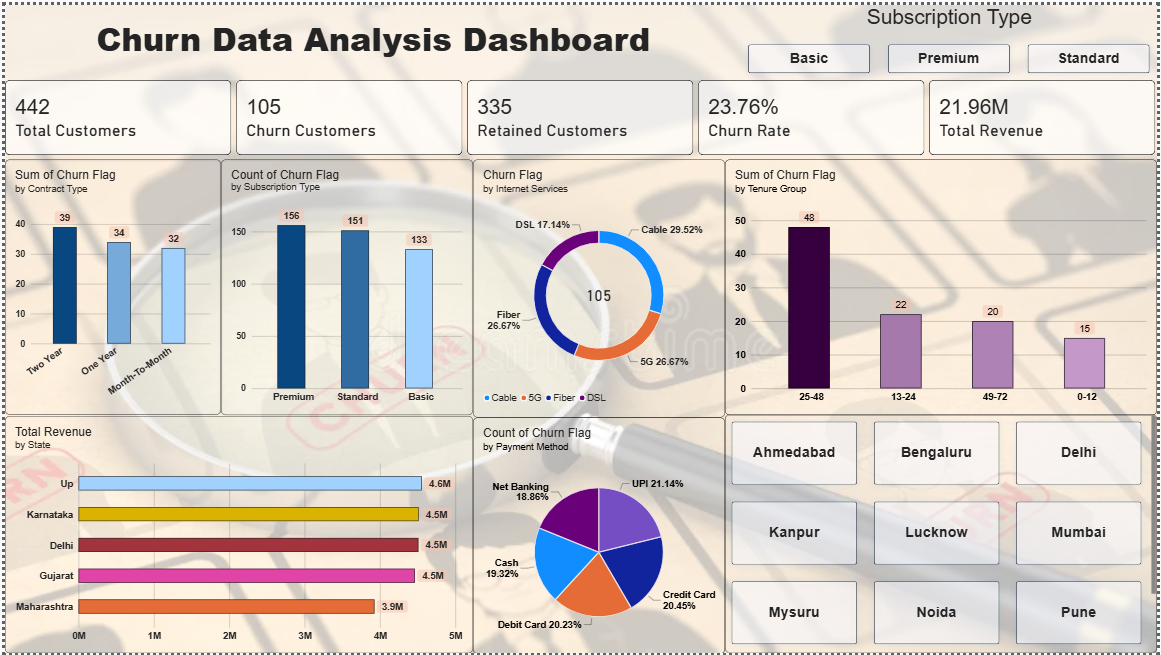

The dashboard page shown, as its layout file describes it:
{"tool":"powerbi","page":{"name":"Churn Dashboard","canvas":[1920,1080],"ordinal":0},"visuals":[{"type":"cardVisual","fields":{"Data":["DAX Measure.Total Customers","DAX Measure.Churn Customers","DAX Measure.Retained Customers","DAX Measure.Churn Rate","DAX Measure.Total Revenue"]},"box":[0,125,1920,125],"z":0},{"type":"textbox","box":[0,0,1227.5,125],"z":1000},{"type":"clusteredColumnChart","title":"Sum of Churn Flag","fields":{"Y":["Sum(Clean_Churn_Data.Churn_Flag)"],"Category":["Clean_Churn_Data.Contract_Type"]},"box":[0,256.7,360,425],"z":2000},{"type":"clusteredColumnChart","title":"Count of Churn Flag","fields":{"Category":["Clean_Churn_Data.Subscription_Type"],"Y":["CountNonNull(Clean_Churn_Data.Churn_Flag)"]},"box":[360,257.1,420,425.7],"z":3000},{"type":"barChart","fields":{"Y":["DAX Measure.Total Revenue"],"Category":["Clean_Churn_Data.State"]},"box":[0,685,780,395],"z":4000},{"type":"donutChart","title":"Churn Flag","fields":{"Category":["Clean_Churn_Data.Internet_Service"],"Y":["Sum(Clean_Churn_Data.Churn_Flag)"]},"box":[780,256.7,420,430],"z":5000},{"type":"advancedSlicerVisual","title":"Subscription Type","fields":{"Values":["Clean_Churn_Data.Subscription_Type"]},"box":[1227.5,0,692.5,125],"z":6000},{"type":"columnChart","title":"Sum of Churn Flag","fields":{"Y":["Sum(Clean_Churn_Data.Churn_Flag)"],"Category":["Clean_Churn_Data.Tenure_Group"]},"box":[1200,257.1,720,425.7],"z":7000},{"type":"pieChart","title":"Count of Churn Flag","fields":{"Category":["Clean_Churn_Data.Payment_Method"],"Y":["CountNonNull(Clean_Churn_Data.Churn_Flag)"]},"box":[780,686.2,420,393.8],"z":8000},{"type":"advancedSlicerVisual","fields":{"Values":["Clean_Churn_Data.City"]},"box":[1200,682.9,720,397.1],"z":8001}]}

Visuals, with their boxes in screenshot pixels (x1, y1, x2, y2), scaled from the page's 1920x1080 canvas onto the 1161x655 screenshot:
cardVisual - DAX Measure.Total Customers x DAX Measure.Churn Customers: (x1=0, y1=76, x2=1160, y2=152)
textbox: (x1=0, y1=0, x2=742, y2=76)
"Sum of Churn Flag" clusteredColumnChart: (x1=0, y1=156, x2=218, y2=413)
"Count of Churn Flag" clusteredColumnChart: (x1=218, y1=156, x2=472, y2=414)
barChart - DAX Measure.Total Revenue x Clean_Churn_Data.State: (x1=0, y1=415, x2=472, y2=654)
"Churn Flag" donutChart: (x1=472, y1=156, x2=726, y2=416)
"Subscription Type" advancedSlicerVisual: (x1=742, y1=0, x2=1160, y2=76)
"Sum of Churn Flag" columnChart: (x1=726, y1=156, x2=1160, y2=414)
"Count of Churn Flag" pieChart: (x1=472, y1=416, x2=726, y2=654)
advancedSlicerVisual - Clean_Churn_Data.City: (x1=726, y1=414, x2=1160, y2=654)
